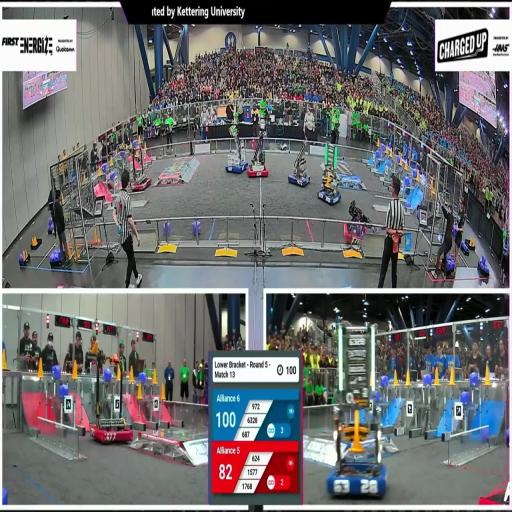robot: (325, 316, 392, 500), (92, 352, 136, 444), (478, 392, 509, 505), (317, 142, 343, 204), (342, 202, 379, 244), (121, 144, 152, 192), (224, 124, 247, 174), (287, 140, 311, 187), (247, 132, 268, 179)
